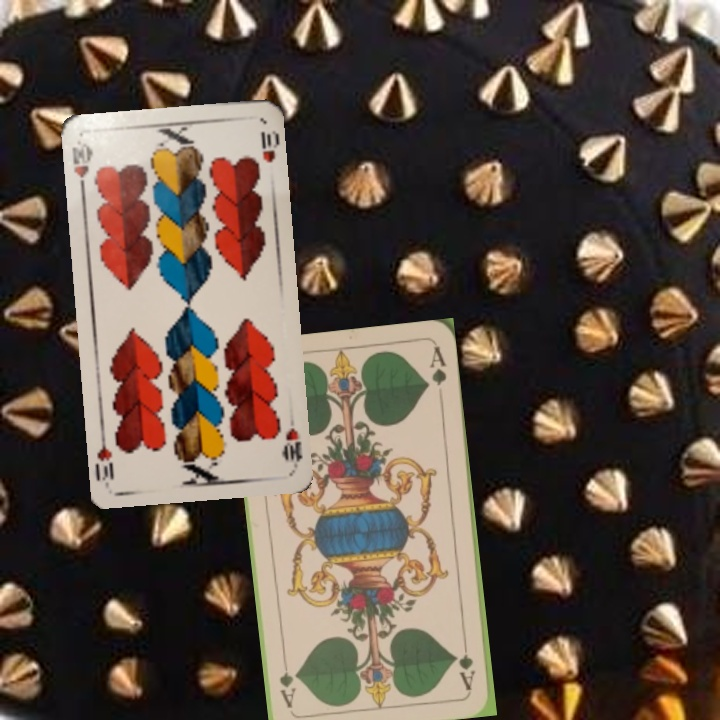GA: (455, 633, 478, 692)
H10: (67, 137, 94, 196), (278, 410, 305, 469)
